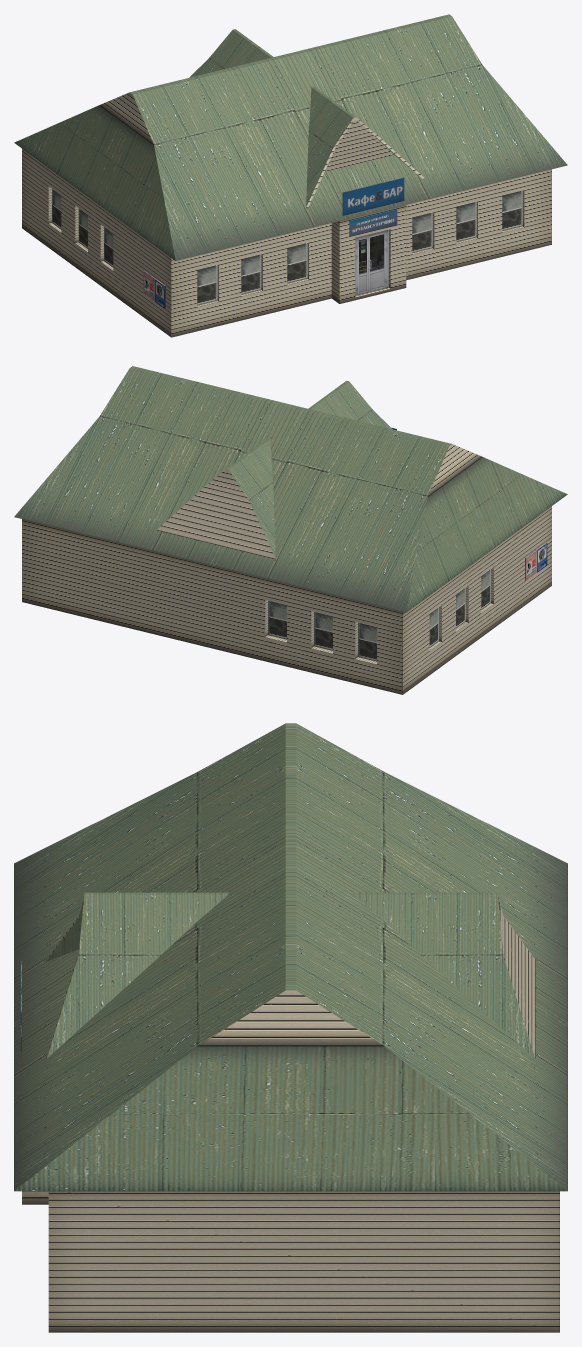
Rendered from e30_kafe_shinomontaz1.FBX.
The picture shows the model from 3 angles, top to bottom: view 1: azimuth 30°, elevation 25°; view 2: azimuth 150°, elevation 25°; view 3: azimuth 270°, elevation 25°; orthographic projection. The views are drawn at different scales.
Visible parts, largest first — view 1: e30_kafe_shinomontaz1; view 2: e30_kafe_shinomontaz1; view 3: e30_kafe_shinomontaz1.
Part boxes in pixels (<box>): e30_kafe_shinomontaz1: <box>14,14,567,337</box>; e30_kafe_shinomontaz1: <box>14,366,567,694</box>; e30_kafe_shinomontaz1: <box>14,723,567,1332</box>.
Size of the model in its own units: 14.42 by 10.3 by 6.5.
